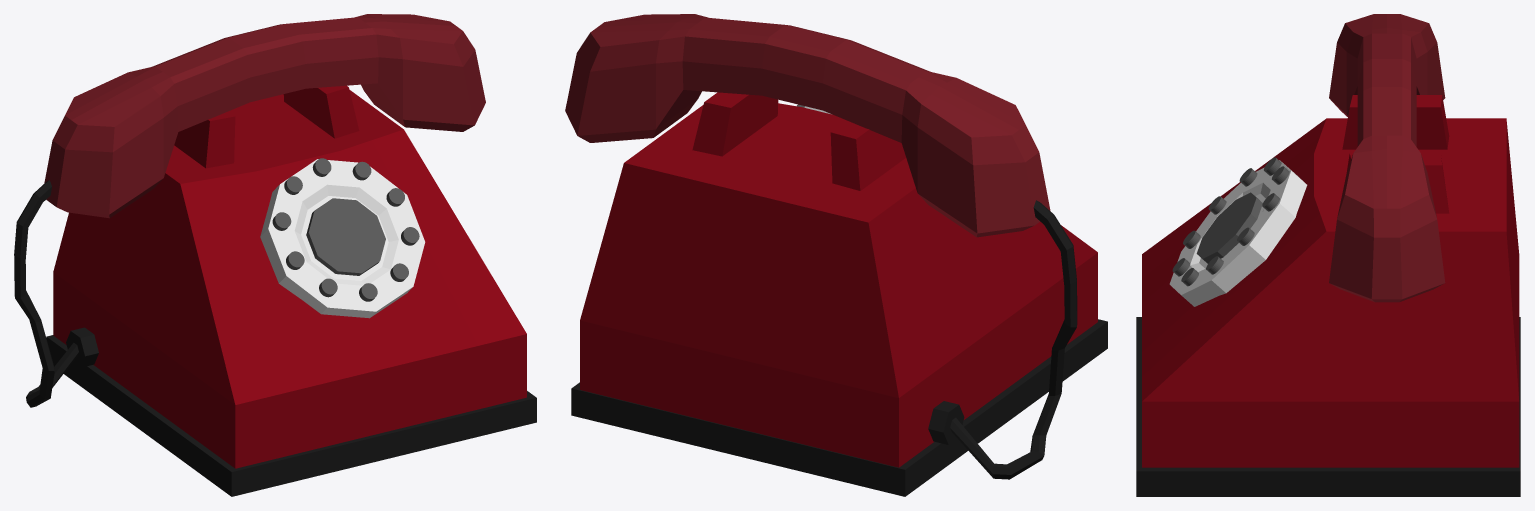
The model's file is телефон.fbx.
3 renders of one model, left to right at view 1: azimuth 30°, elevation 25°; view 2: azimuth 150°, elevation 25°; view 3: azimuth 270°, elevation 25°, orthographic. The views are drawn at different scales.
Parts seen in each view (by area): view 1: Cylinder.024; view 2: Cylinder.024; view 3: Cylinder.024.
Part boxes in pixels (x1,y1,x2,y2): Cylinder.024: (14,14,536,496); Cylinder.024: (565,14,1107,496); Cylinder.024: (1136,14,1520,496).
Bounding box in the file's own units: 317 × 219 × 220.
